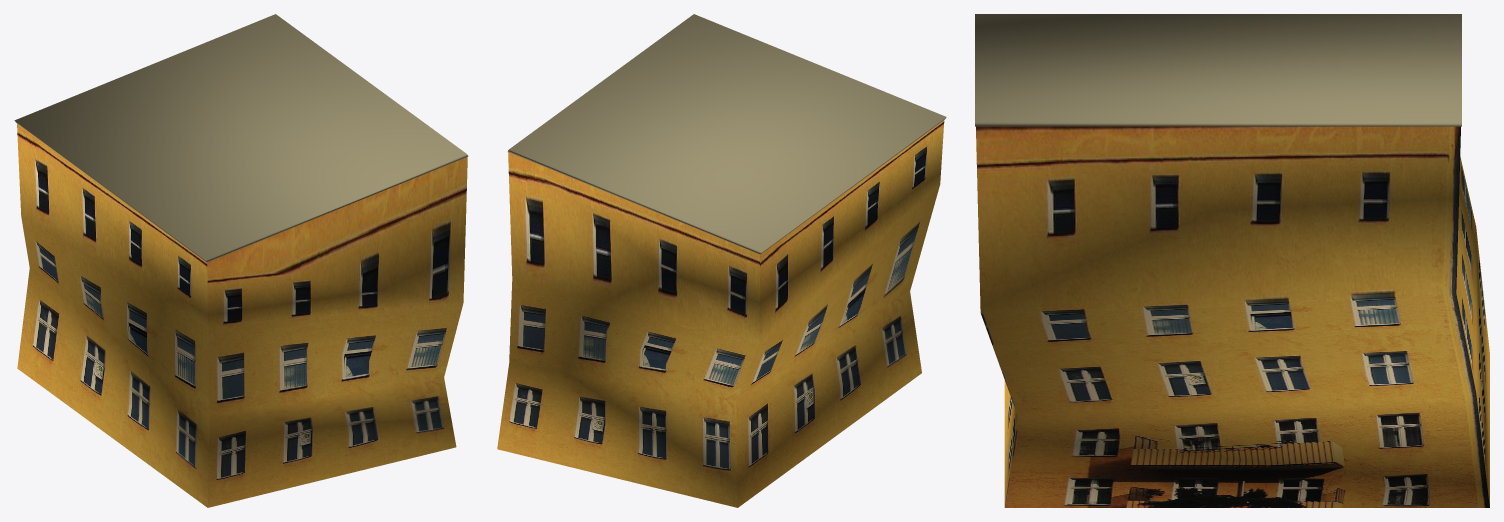
File: apartments_two.fbx
3 views of the same model, side by side, from view 1: azimuth 30°, elevation 25°; view 2: azimuth 150°, elevation 25°; view 3: azimuth 270°, elevation 25° (orthographic). The views are drawn at different scales.
Parts seen in each view (by area): view 1: Apartment1; view 2: Apartment1; view 3: Apartment1.
Boxes of the visible parts, x1=… form: Apartment1: x1=14, y1=14, x2=468, y2=507; Apartment1: x1=497, y1=14, x2=946, y2=507; Apartment1: x1=975, y1=14, x2=1489, y2=507.
Size of the model in its own units: 1060 by 1164 by 1410.
2 materials, 1 textured.
